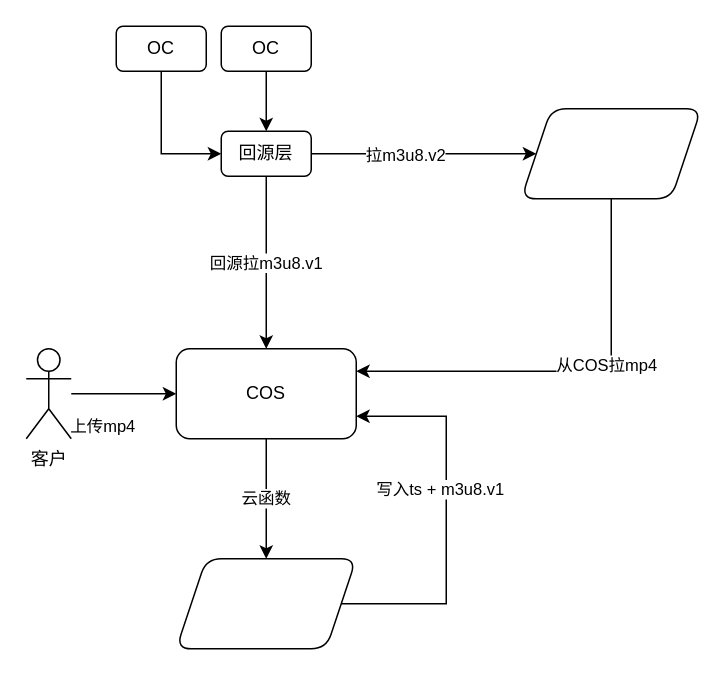
This 728x675 diagram has some shape labels left out. Here are the shapes that lost their labels. From the top down, the centre of each, then its label:
At point (610, 153): "架平实时转码".
At point (265, 603): "云平转码服务".
